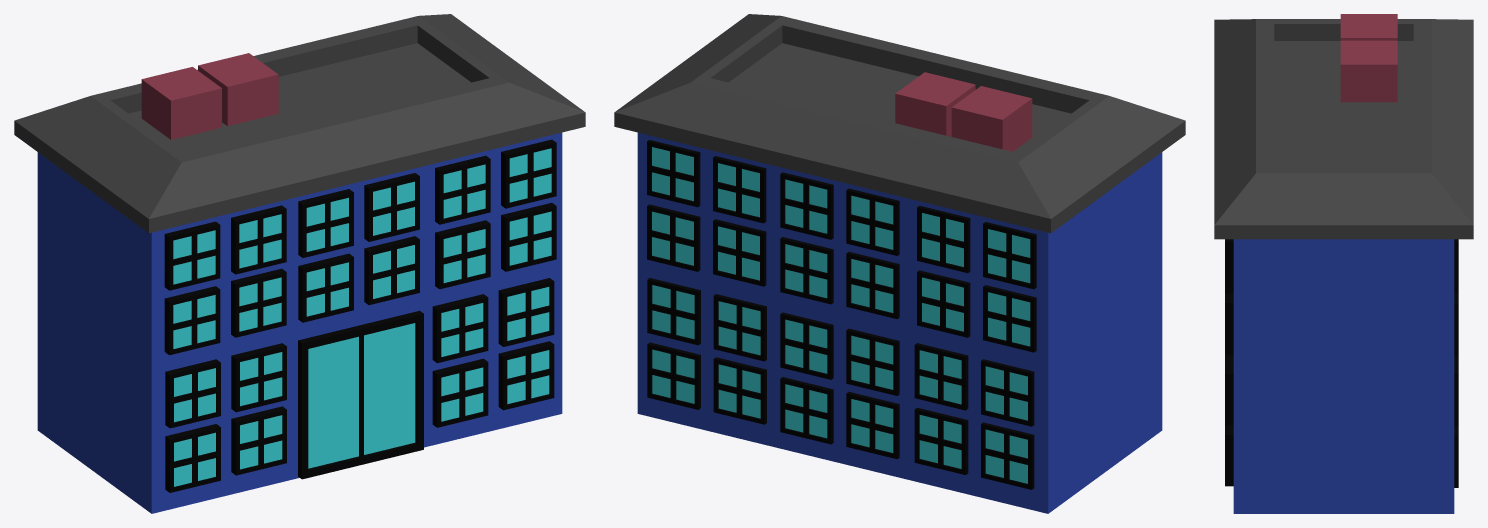
Rendered from bigBuilding.fbx.
3 renders of one model, left to right at view 1: azimuth 30°, elevation 25°; view 2: azimuth 150°, elevation 25°; view 3: azimuth 270°, elevation 25°, orthographic. The views are drawn at different scales.
Visible parts, largest first — view 1: bigBuilding; view 2: bigBuilding; view 3: bigBuilding.
Boxes of the visible parts, x1,y1,x2,y2 form: bigBuilding: (14,14,585,513); bigBuilding: (614,14,1185,513); bigBuilding: (1214,14,1473,513).
Size of the model in its own units: 1712 by 1327 by 913.
